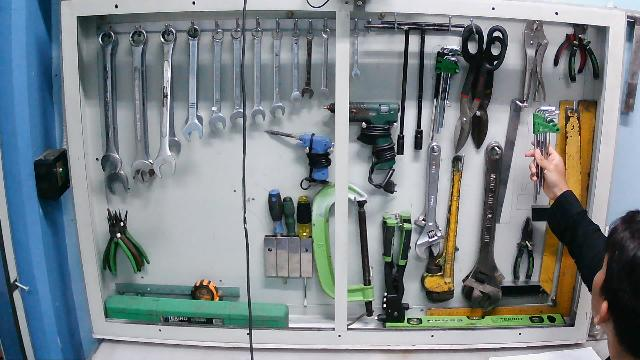kunci_l_bintang: (526, 107, 562, 206)
